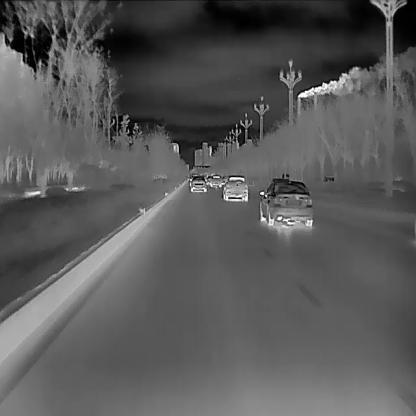car: (259, 178, 313, 227), (223, 175, 248, 200), (190, 176, 205, 192), (210, 175, 221, 187)
